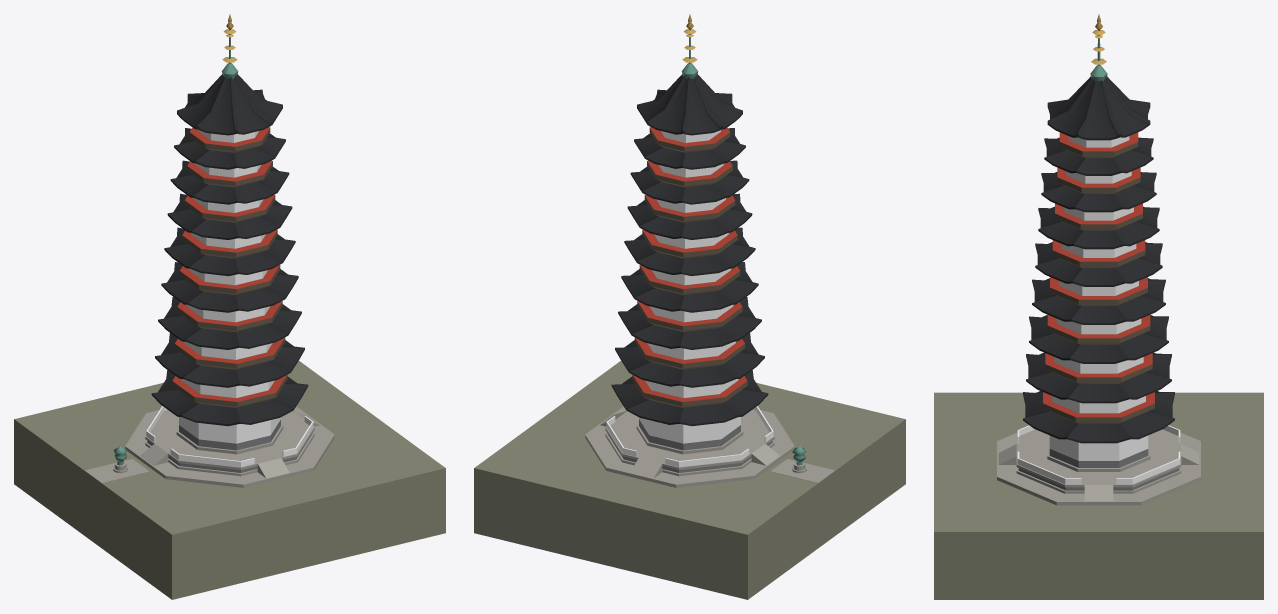
Rendered from far.fbx.
The picture shows the model from 3 angles, left to right: view 1: azimuth 30°, elevation 25°; view 2: azimuth 150°, elevation 25°; view 3: azimuth 270°, elevation 25°; orthographic projection. The views are drawn at different scales.
Visible parts, largest first — view 1: landmark-octagonal_pagoda/0/far; view 2: landmark-octagonal_pagoda/0/far; view 3: landmark-octagonal_pagoda/0/far.
Part boxes in pixels (box(x1,y1,x2,y2)): landmark-octagonal_pagoda/0/far: box(14, 14, 445, 599); landmark-octagonal_pagoda/0/far: box(474, 14, 905, 599); landmark-octagonal_pagoda/0/far: box(934, 14, 1263, 599).
Size of the model in its own units: 44 by 76 by 44.
